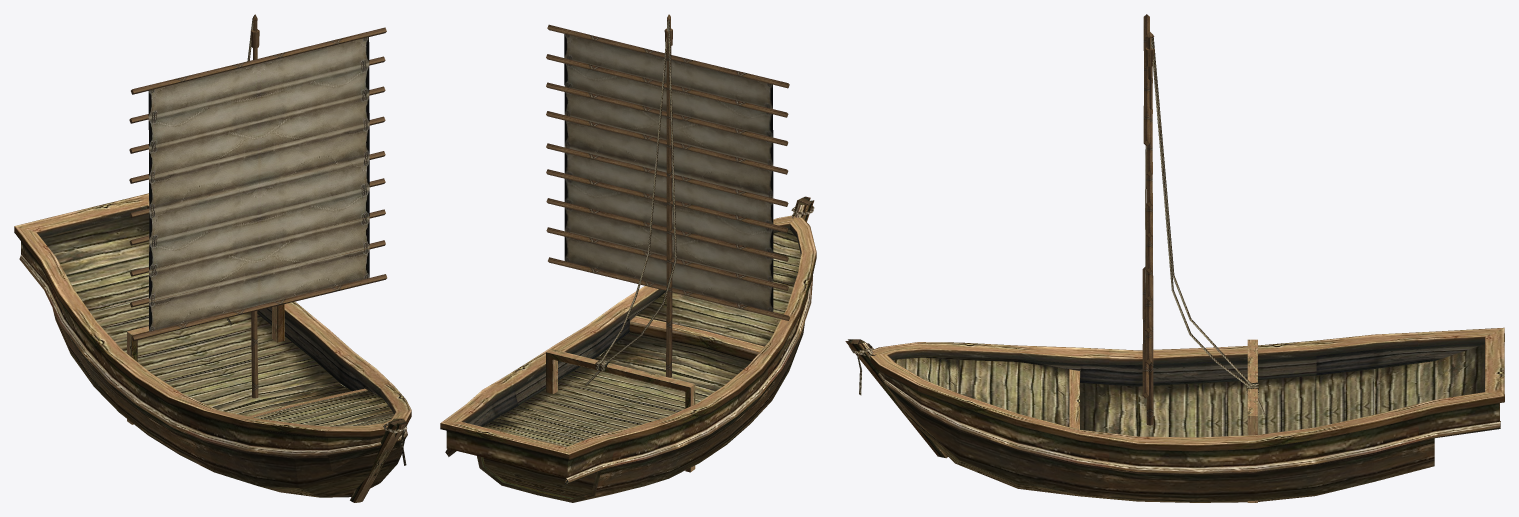
The model's file is 5CS5EKK8BFCJ7KV95Q33AITH1.fbx.
3 renders of one model, left to right at view 1: azimuth 30°, elevation 25°; view 2: azimuth 150°, elevation 25°; view 3: azimuth 270°, elevation 25°, orthographic. The views are drawn at different scales.
Parts seen in each view (by area): view 1: Object_yueguo_building_chuan02_01.jpg, Object_ll_byr_boat_01.jpg; view 2: Object_ll_byr_boat_01.jpg, Object_yueguo_building_chuan02_01.jpg; view 3: Object_ll_byr_boat_01.jpg, Object_yueguo_building_chuan02_01.jpg.
Part boxes in pixels (x1,y1,x2,y2): Object_yueguo_building_chuan02_01.jpg: (129,14,387,398); Object_ll_byr_boat_01.jpg: (14,18,411,502); Object_ll_byr_boat_01.jpg: (440,20,816,502); Object_yueguo_building_chuan02_01.jpg: (546,14,789,377); Object_ll_byr_boat_01.jpg: (845,37,1504,502); Object_yueguo_building_chuan02_01.jpg: (1142,14,1154,425).
Bounding box in the file's own units: 1.14 × 1.89 × 2.5.
